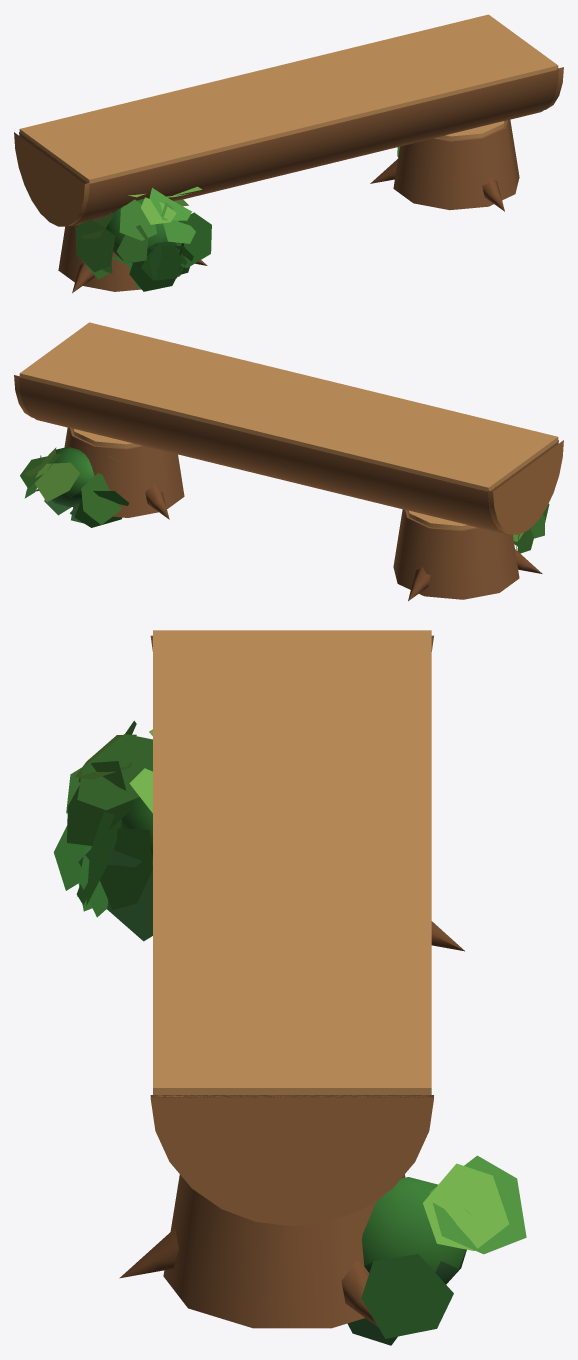
Rendered from Bench.glb.
3 renders of one model, top to bottom at view 1: azimuth 30°, elevation 25°; view 2: azimuth 150°, elevation 25°; view 3: azimuth 270°, elevation 25°, orthographic. The views are drawn at different scales.
Parts seen in each view (by area): view 1: Body, Rustle; view 2: Body, Rustle; view 3: Body, Rustle.
Boxes of the visible parts, left/top/right/bottom form: Body: left=14, top=14, right=563, bottom=293; Rustle: left=75, top=146, right=399, bottom=291; Body: left=14, top=322, right=563, bottom=601; Rustle: left=20, top=447, right=549, bottom=553; Body: left=119, top=630, right=466, bottom=1328; Rustle: left=53, top=720, right=526, bottom=1345.
Size of the model in its own units: 4.29 by 1.22 by 1.84.
2 materials, 2 textured.
